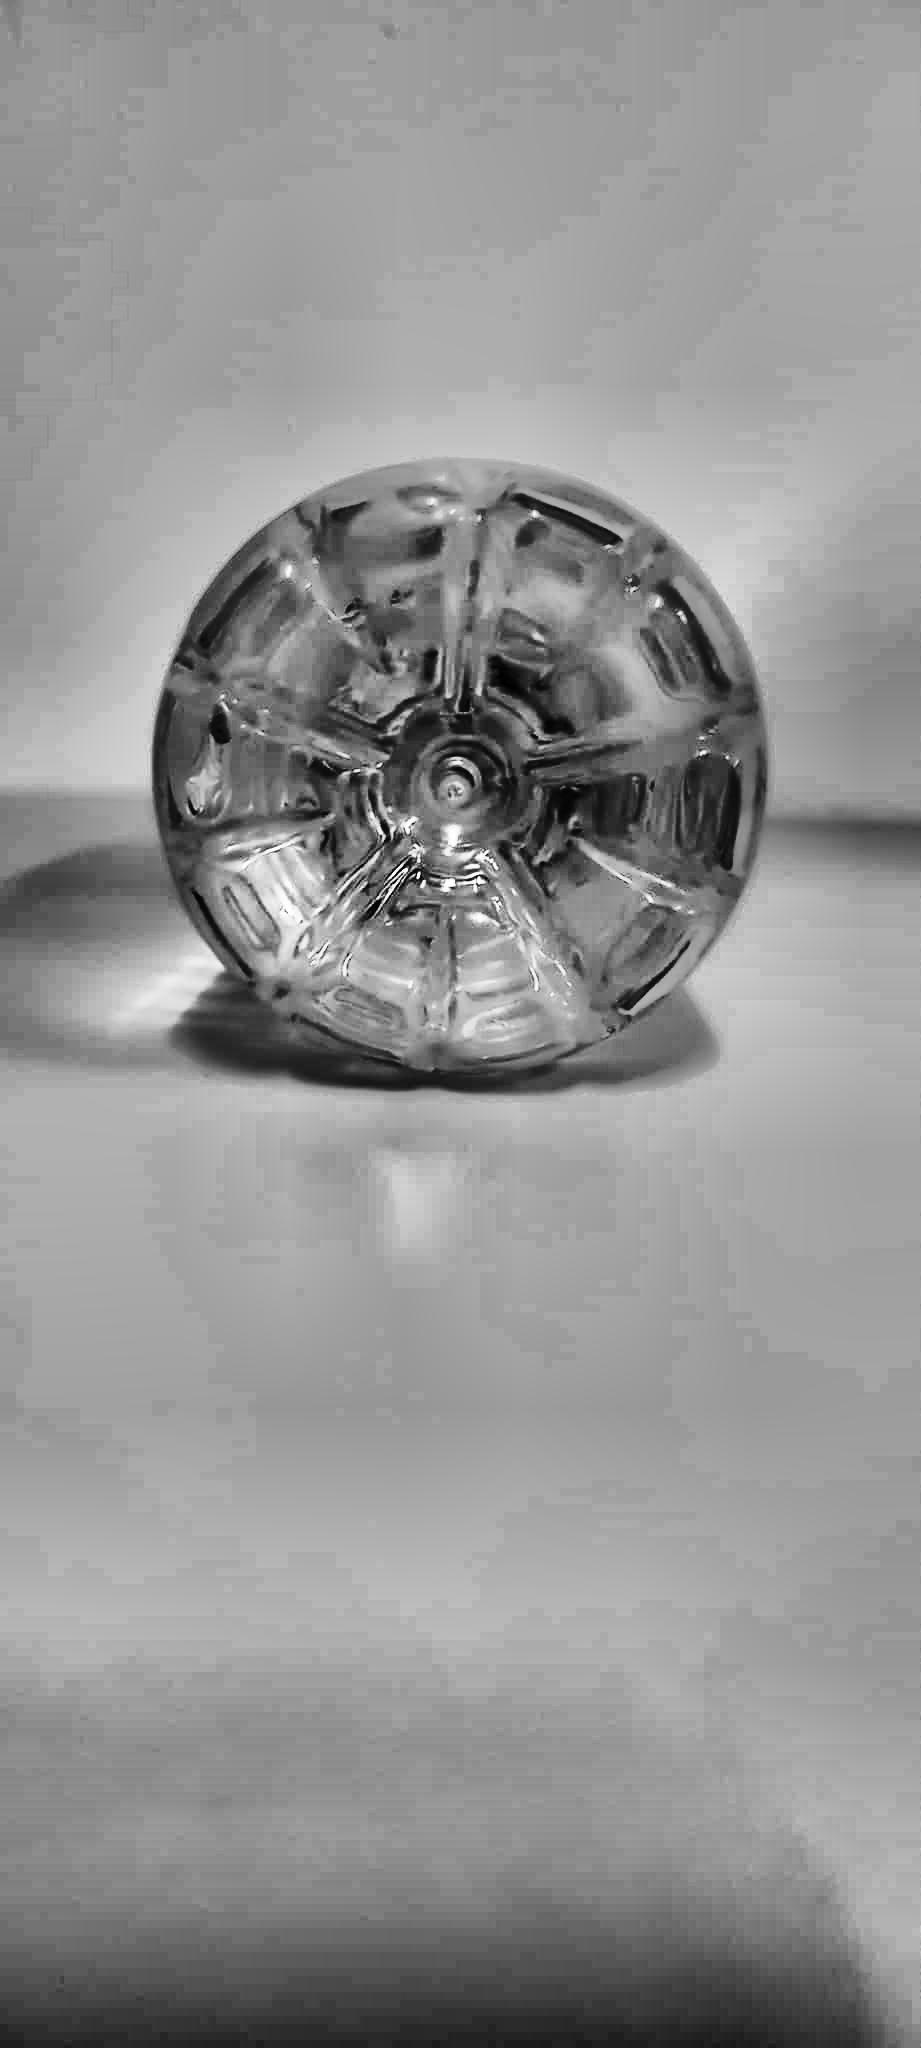waterbottle: (46, 276, 855, 1354)
